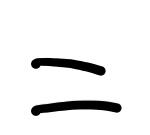eqv: (31, 57, 122, 116)
